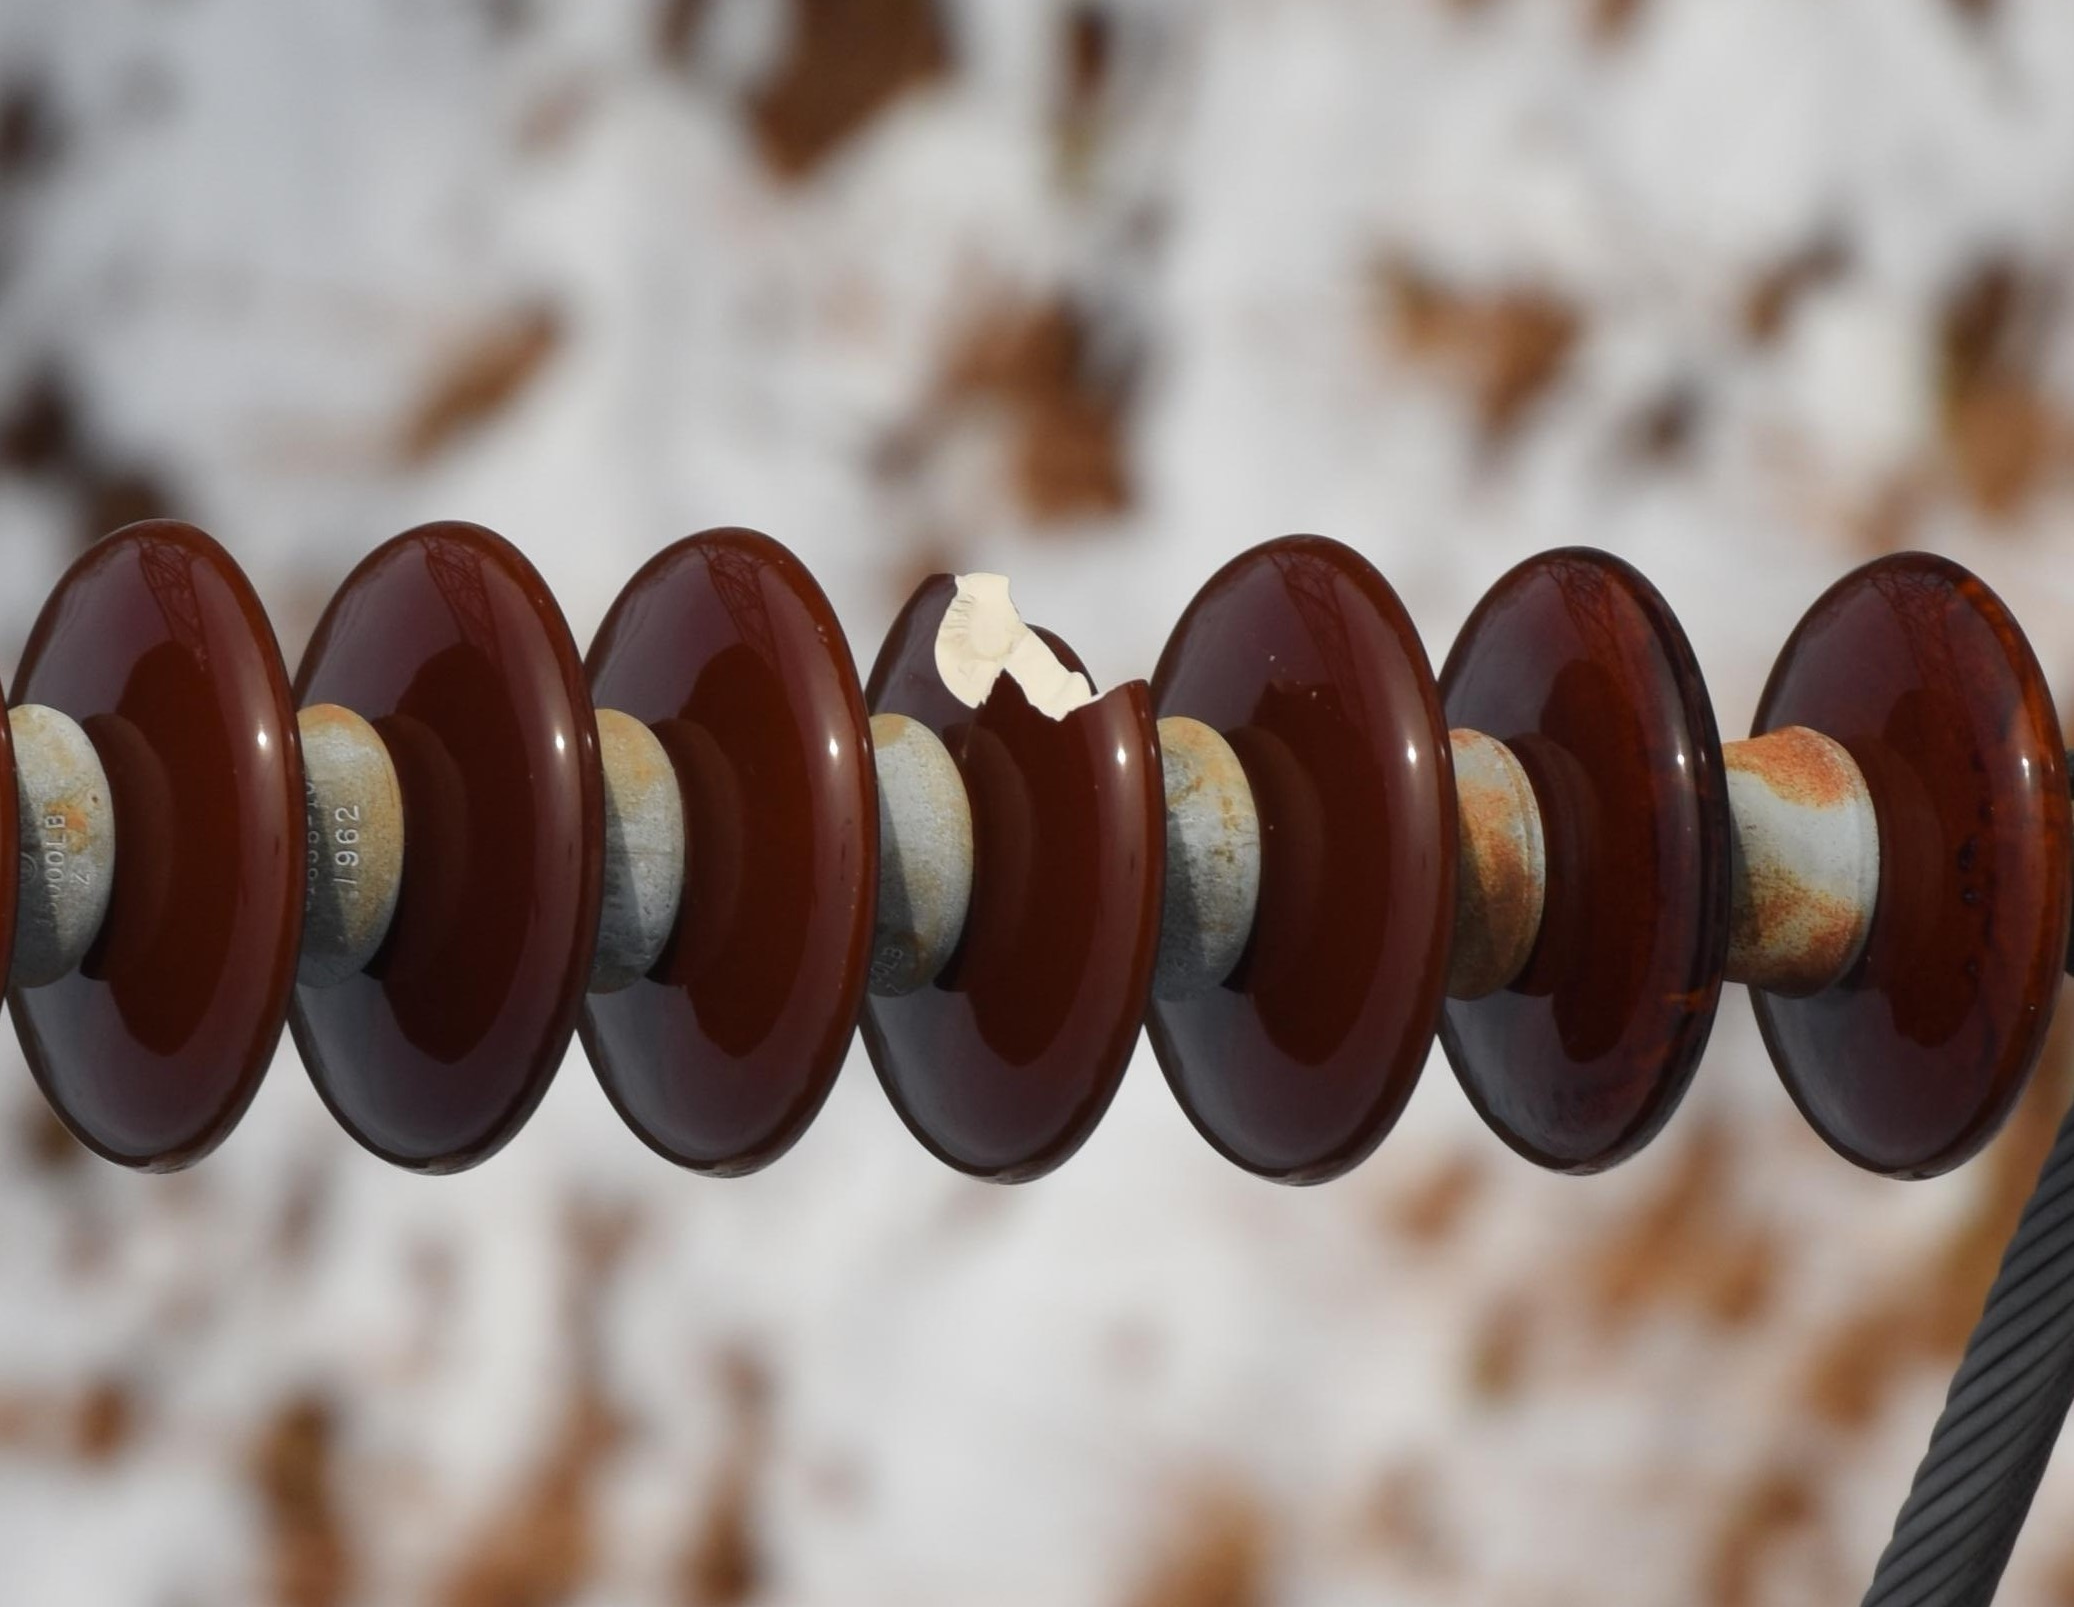insulator breakage: (865, 518, 1172, 1195)
